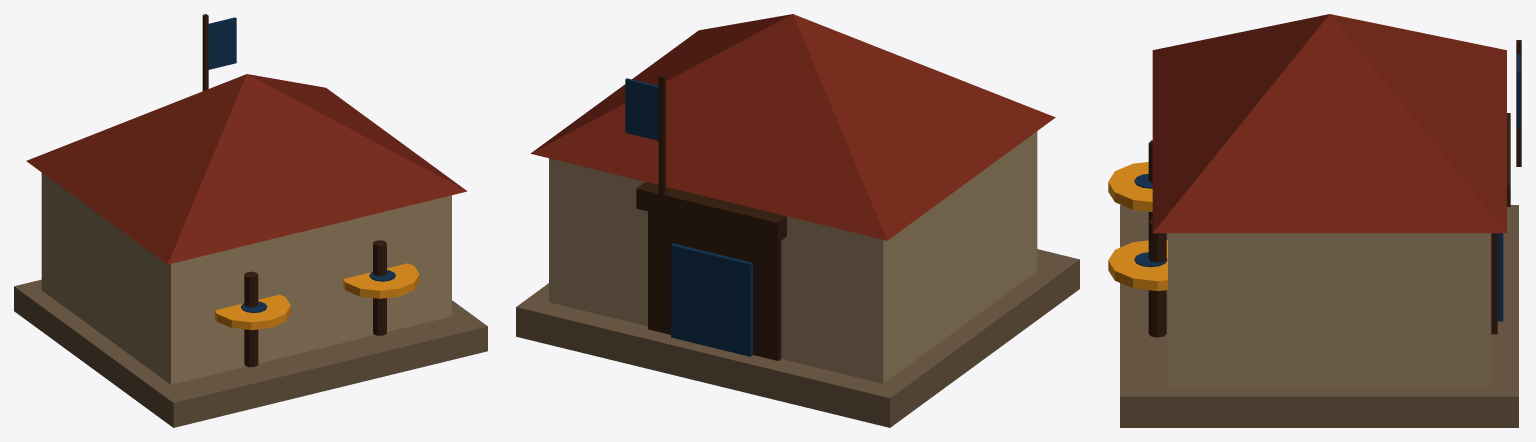
The model's file is ArcheryRange_authoring.obj.
3 views of the same model, side by side, from view 1: azimuth 30°, elevation 25°; view 2: azimuth 150°, elevation 25°; view 3: azimuth 270°, elevation 25° (orthographic). The views are drawn at different scales.
Parts seen in each view (by area): view 1: Roof, RangeWalls, Foundation, TargetBoard, TargetPost, Banner, BannerPole; view 2: Roof, RangeWalls, Foundation, EntranceFrame, Gate, GateLintel, Banner, BannerPole; view 3: Roof, RangeWalls, Foundation, TargetBoard, TargetPost, EntranceFrame, Gate, BannerPole, TargetMark.
Part boxes in pixels (x1,y1,x2,y2): Roof: (26, 74, 467, 264); RangeWalls: (41, 173, 451, 384); Foundation: (14, 279, 487, 427); TargetBoard: (214, 263, 419, 330); TargetPost: (244, 240, 386, 367); Banner: (208, 17, 236, 69); BannerPole: (202, 14, 208, 90); Roof: (530, 14, 1055, 240); RangeWalls: (549, 131, 1037, 383); Foundation: (516, 249, 1079, 427); EntranceFrame: (648, 211, 781, 360); Gate: (671, 243, 752, 356); GateLintel: (636, 182, 786, 242); Banner: (625, 78, 658, 140); BannerPole: (658, 74, 665, 195); Roof: (1152, 14, 1506, 233); RangeWalls: (1168, 233, 1491, 386); Foundation: (1120, 205, 1518, 427); TargetBoard: (1108, 162, 1167, 291); TargetPost: (1148, 140, 1166, 337); EntranceFrame: (1491, 233, 1497, 334); Gate: (1497, 233, 1503, 321); BannerPole: (1516, 40, 1521, 166); TargetMark: (1134, 174, 1167, 267).
Size of the model in its own units: 6.6 by 5.1 by 6.01.
